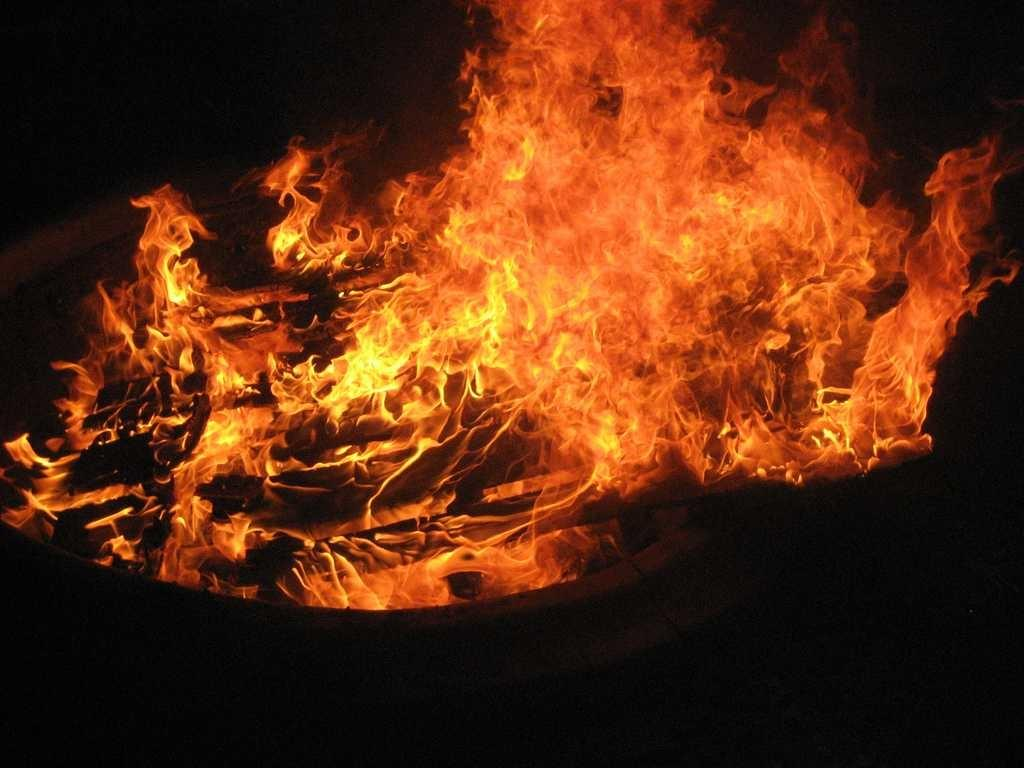fire: (522, 132, 856, 454)
